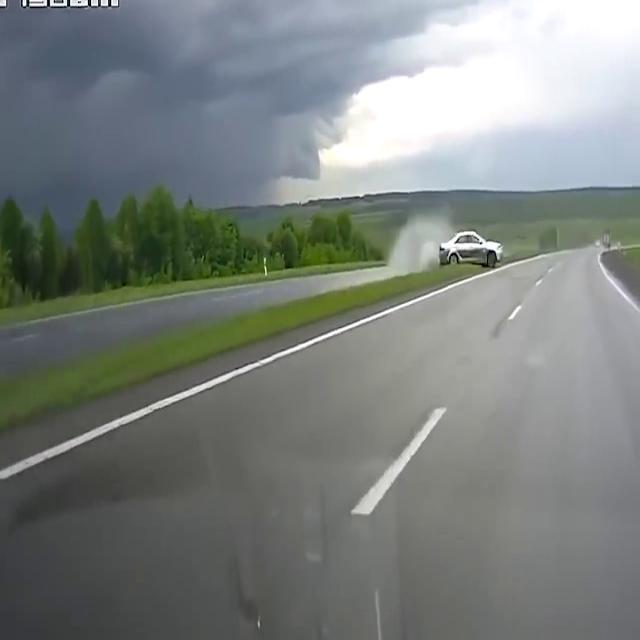single accident: (363, 159, 534, 336)
